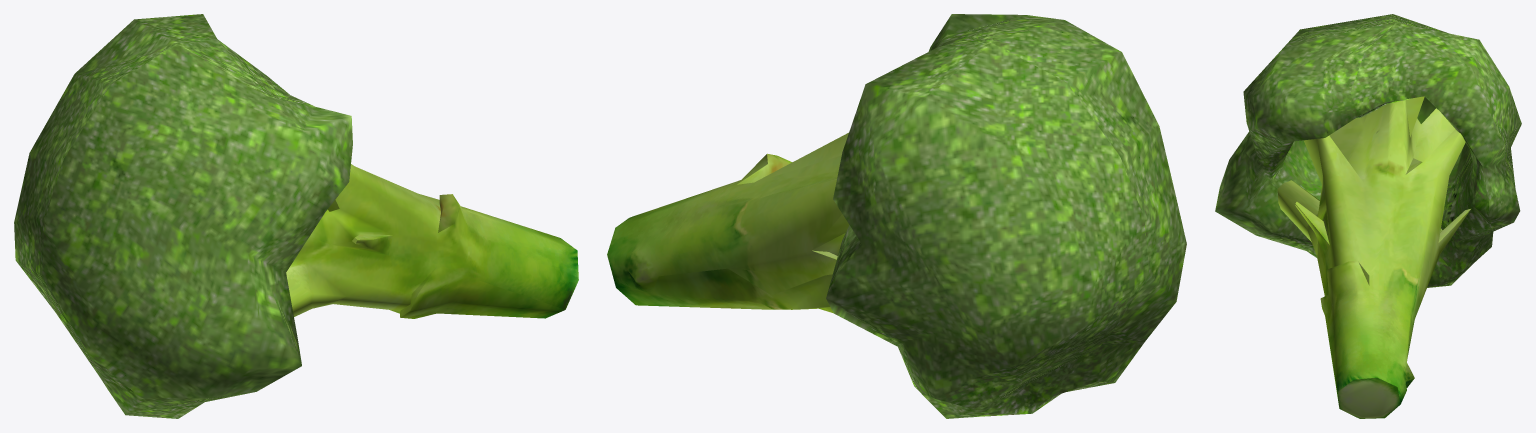
The picture shows the model from 3 angles, left to right: view 1: azimuth 30°, elevation 25°; view 2: azimuth 150°, elevation 25°; view 3: azimuth 270°, elevation 25°; orthographic projection. The views are drawn at different scales.
Visible parts, largest first — view 1: broccoli.001; view 2: broccoli.001; view 3: broccoli.001.
Part boxes in pixels (x1,y1,x2,y2): broccoli.001: (14,14,578,418); broccoli.001: (607,14,1186,418); broccoli.001: (1215,14,1521,418).
Bounding box in the file's own units: 0.0735 × 0.0465 × 0.0488.
